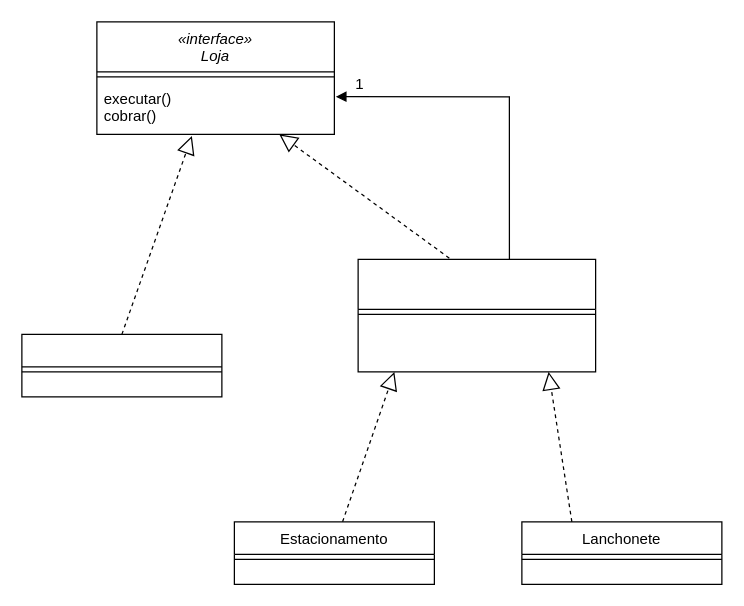
This 744x606 diagram has some shape labels left out. The centre of each missing label's shape, as x and y in pixels:
"LojaShopping" belongs at (121,365).
"«abstract» LojaDecorator" belongs at (476,315).
